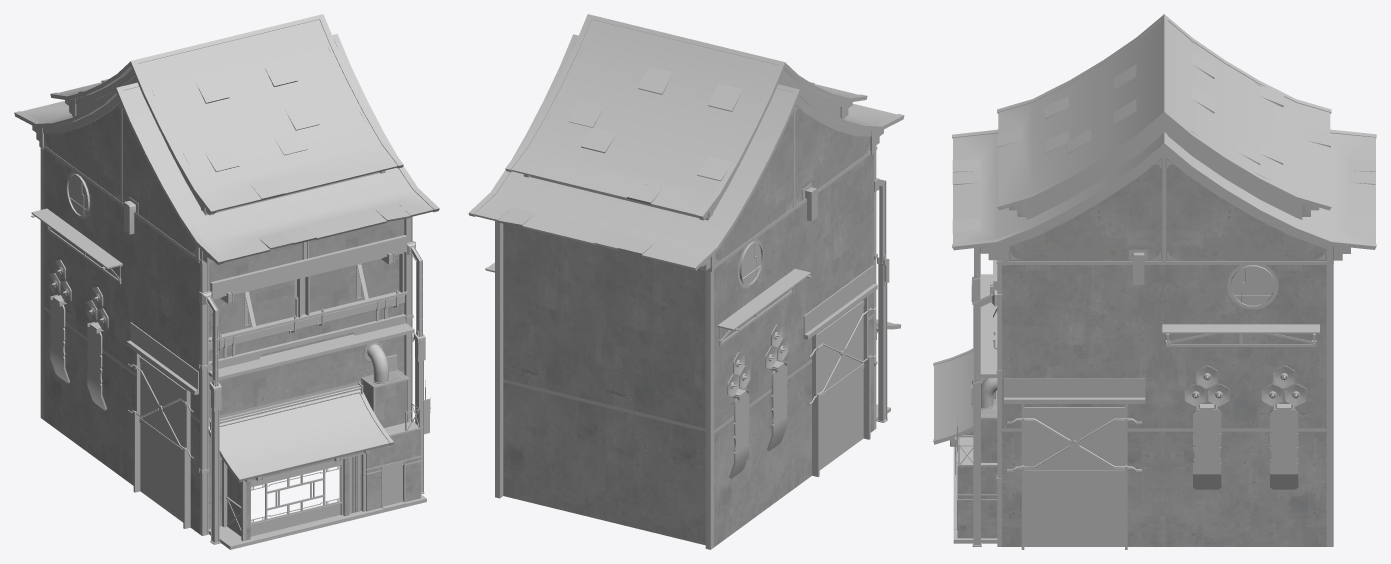
The model's file is SM_Cit_Bui_26.fbx.
3 renders of one model, left to right at view 1: azimuth 30°, elevation 25°; view 2: azimuth 150°, elevation 25°; view 3: azimuth 270°, elevation 25°, orthographic. The views are drawn at different scales.
Parts seen in each view (by area): view 1: SM_Cit_Bui_26AL.mo, SM_Cit_Bui_26BL.mo; view 2: SM_Cit_Bui_26AL.mo, SM_Cit_Bui_26BL.mo; view 3: SM_Cit_Bui_26AL.mo, SM_Cit_Bui_26BL.mo.
Part boxes in pixels (x1,y1,x2,y2): SM_Cit_Bui_26AL.mo: (14,14,439,544); SM_Cit_Bui_26BL.mo: (49,76,429,549); SM_Cit_Bui_26AL.mo: (468,14,904,549); SM_Cit_Bui_26BL.mo: (530,49,890,478); SM_Cit_Bui_26AL.mo: (933,14,1376,549); SM_Cit_Bui_26BL.mo: (953,40,1306,546).
Bounding box in the file's own units: 16.84 × 27.08 × 25.27.
